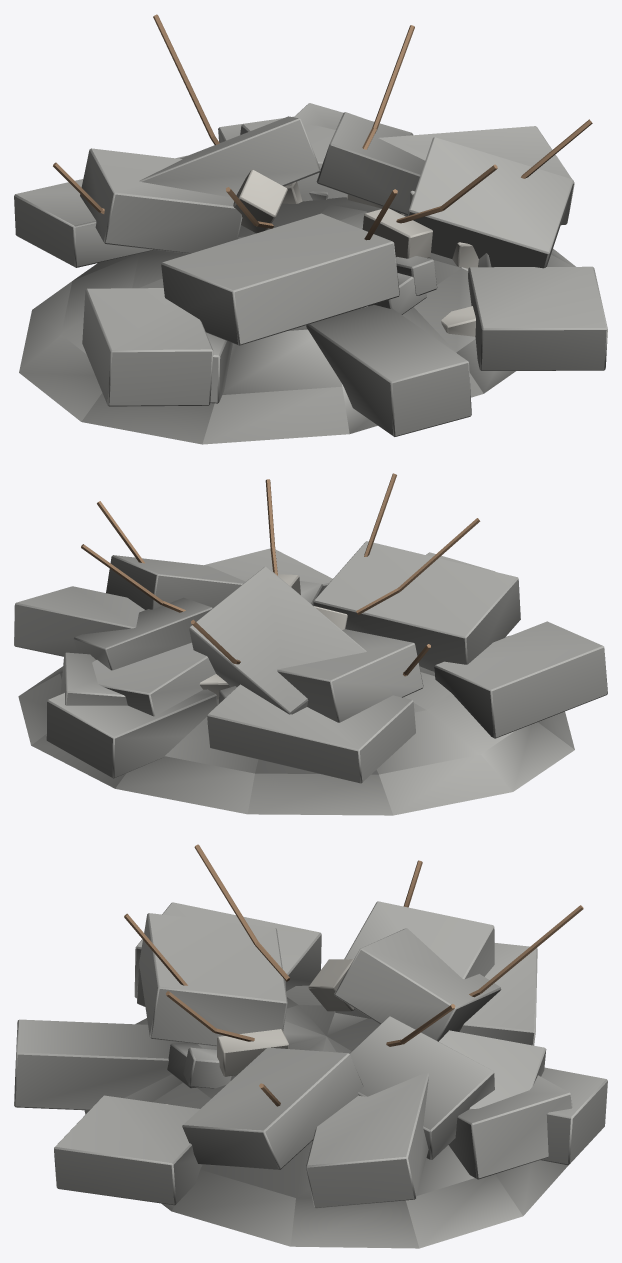
The model's file is rubble_concrete.glb.
3 views of the same model, one above another, from view 1: azimuth 30°, elevation 25°; view 2: azimuth 150°, elevation 25°; view 3: azimuth 270°, elevation 25° (orthographic). The views are drawn at different scales.
Parts seen in each view (by area): view 1: static; view 2: static; view 3: static.
Part boxes in pixels (<box>): static: <box>14,14,607,444</box>; static: <box>14,473,607,815</box>; static: <box>14,844,607,1248</box>.
Size of the model in its own units: 1.57 by 0.5947 by 1.51.
